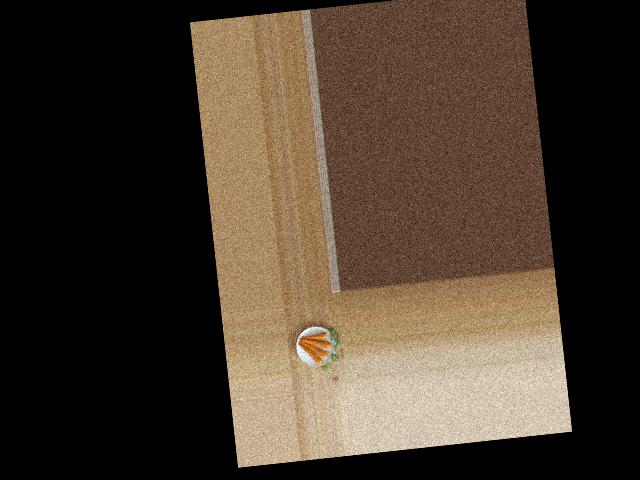carrot: (296, 341, 324, 367)
